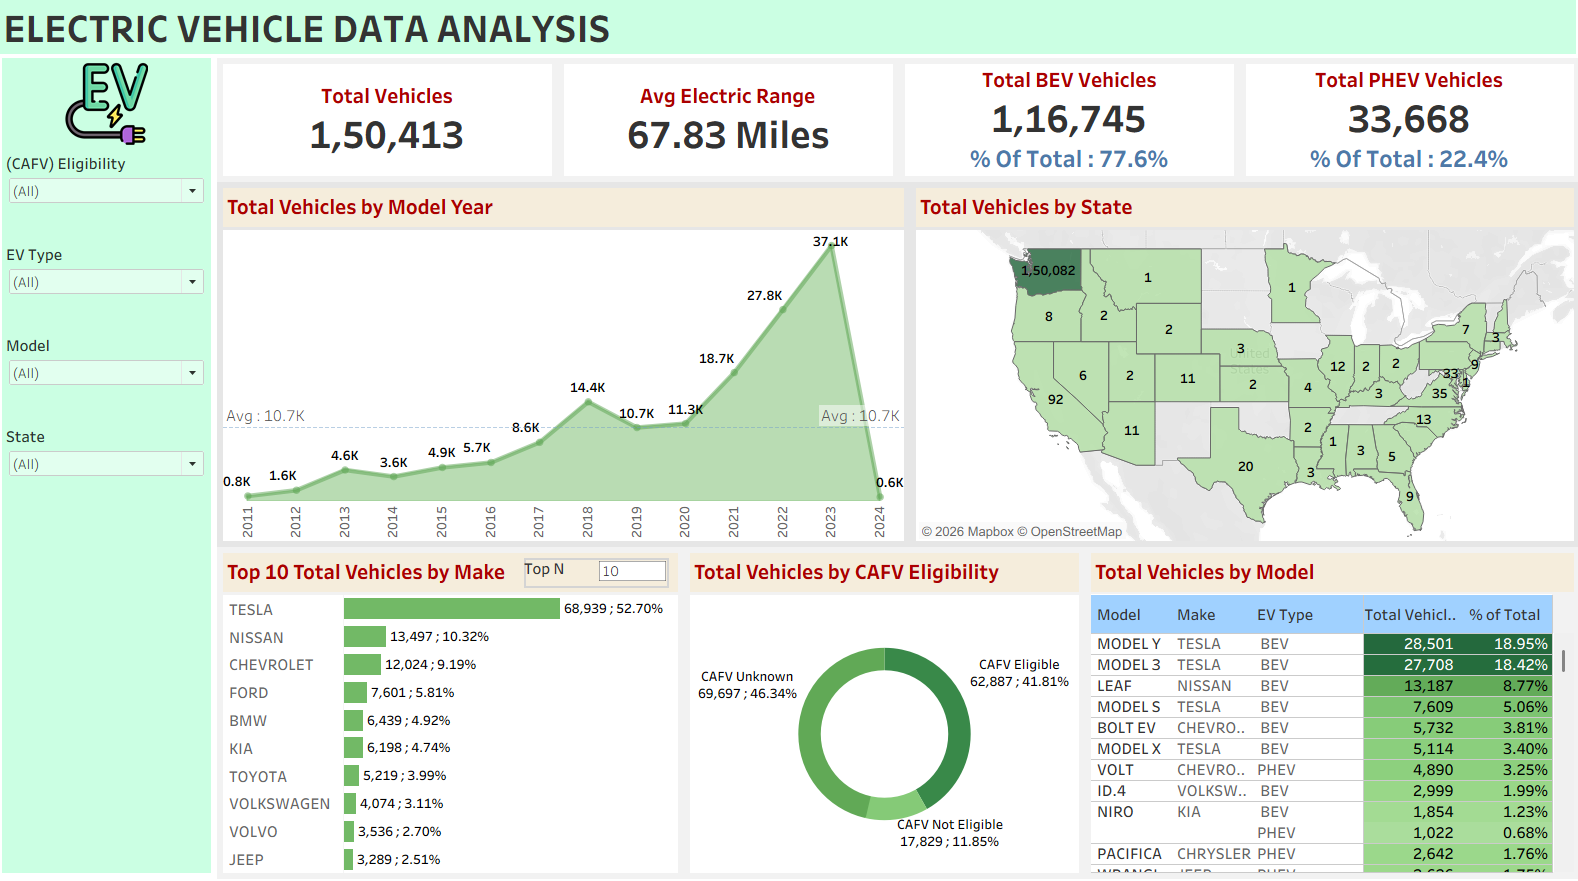

Layout of this report page (visuals, bound fields, positions):
{"tool":"tableau","page":{"name":"Dashboard 1","canvas":[1600,900],"ordinal":0},"visuals":[{"type":"title","box":[8,8,1584,63]},{"type":"image","param":"D:/DA project/Electric Vehicle Population Data Ananlysis Using Tableau/ev logo.p","box":[14,71,209,91]},{"type":"worksheet","title":"Total Vehicles","mark":"Automatic","box":[229,71,341,124]},{"type":"worksheet","title":"Avg Electric Range","mark":"Automatic","box":[570,71,341,124]},{"type":"worksheet","title":"Total BEV Vehicles","mark":"Automatic","box":[911,71,341,124]},{"type":"worksheet","title":"Total PHEV Vehicles ","mark":"Automatic","box":[1252,71,340,124]},{"type":"filter","title":"Total Vehicles by Model Year ","param":"[federated.0l4pb6n0l2etze13e5bzr1dpxjlw].[none:Clean Alternative Fuel Vehicle (C","box":[14,162,209,91]},{"type":"worksheet","title":"Total Vehicles by Model Year ","mark":"Area","rows":["Calculation_1794121533899014144","Calculation_1794121533899014144"],"cols":["Model Year"],"box":[229,195,693,365]},{"type":"worksheet","title":"Total Vehicles by State","mark":"Multipolygon","box":[922,195,670,365]},{"type":"filter","title":"Total Vehicles by Model Year ","param":"[federated.0l4pb6n0l2etze13e5bzr1dpxjlw].[none:Electric Vehicle Type:nk]","box":[14,253,209,91]},{"type":"filter","title":"Total Vehicles by Model Year ","param":"[federated.0l4pb6n0l2etze13e5bzr1dpxjlw].[none:Model:nk]","box":[14,344,209,91]},{"type":"filter","title":"Total Vehicles by Model Year ","param":"[federated.0l4pb6n0l2etze13e5bzr1dpxjlw].[none:State:nk]","box":[14,435,209,91]},{"type":"blank","box":[14,526,209,90]},{"type":"worksheet","title":"Top 10 Total Vehicles by Make","mark":"Automatic","rows":["Make"],"cols":["Calculation_1794121533899014144"],"box":[229,560,467,332]},{"type":"worksheet","title":"Total Vehicles by CAFV Eligibility","mark":"Pie","rows":["Calculation_1794121533929250823","Calculation_1794121533929250823"],"box":[696,560,401,332]},{"type":"worksheet","title":"Total Vehicles by Model","mark":"Square","rows":["Model","Make","Electric Vehicle Type"],"box":[1097,560,495,332]},{"type":"parameter","param":"[Parameters].[Parameter 1]","box":[536,571,145,30]},{"type":"blank","box":[14,616,209,90]},{"type":"blank","box":[14,706,209,90]},{"type":"blank","box":[14,796,209,90]}]}

Visuals, with their boxes in screenshot pixels (x1, y1, x2, y2), scaled from the page's 1600x900 canvas onto the 1578x881 screenshot:
title: <bbox>8, 8, 1570, 70</bbox>
image: <bbox>14, 70, 220, 159</bbox>
"Total Vehicles" worksheet: <bbox>226, 70, 562, 191</bbox>
"Avg Electric Range" worksheet: <bbox>562, 70, 898, 191</bbox>
"Total BEV Vehicles" worksheet: <bbox>898, 70, 1235, 191</bbox>
"Total PHEV Vehicles " worksheet: <bbox>1235, 70, 1570, 191</bbox>
"Total Vehicles by Model Year " filter: <bbox>14, 159, 220, 248</bbox>
"Total Vehicles by Model Year " worksheet (Area marks): <bbox>226, 191, 909, 548</bbox>
"Total Vehicles by State" worksheet (Multipolygon marks): <bbox>909, 191, 1570, 548</bbox>
"Total Vehicles by Model Year " filter: <bbox>14, 248, 220, 337</bbox>
"Total Vehicles by Model Year " filter: <bbox>14, 337, 220, 426</bbox>
"Total Vehicles by Model Year " filter: <bbox>14, 426, 220, 515</bbox>
blank: <bbox>14, 515, 220, 603</bbox>
"Top 10 Total Vehicles by Make" worksheet: <bbox>226, 548, 686, 873</bbox>
"Total Vehicles by CAFV Eligibility" worksheet (Pie marks): <bbox>686, 548, 1082, 873</bbox>
"Total Vehicles by Model" worksheet (Square marks): <bbox>1082, 548, 1570, 873</bbox>
parameter: <bbox>529, 559, 672, 588</bbox>
blank: <bbox>14, 603, 220, 691</bbox>
blank: <bbox>14, 691, 220, 779</bbox>
blank: <bbox>14, 779, 220, 867</bbox>
